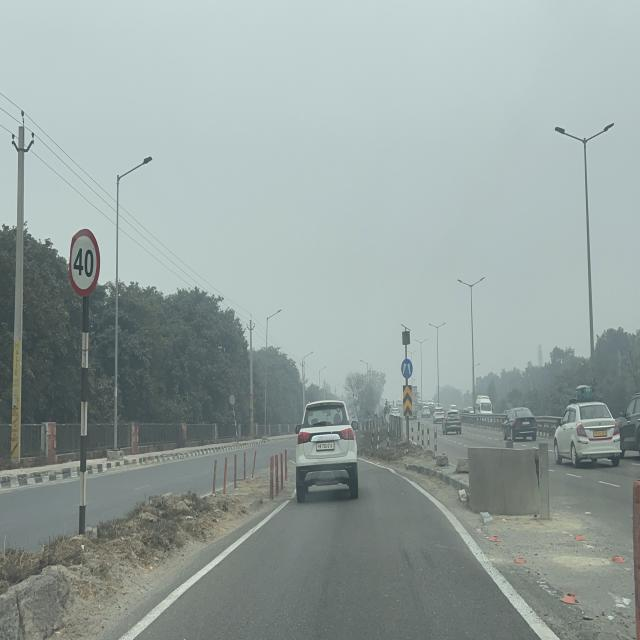KEEP_EITHER_SIDE: (401, 359, 413, 379)
SPEED_LIMIT_40: (68, 228, 101, 299)
